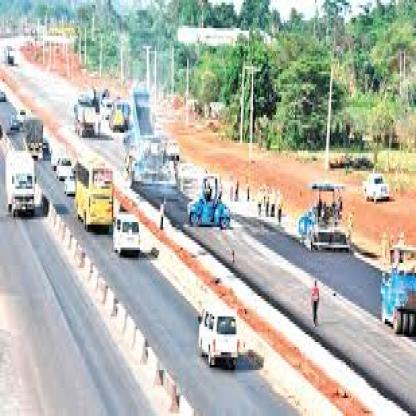car: (72, 156, 124, 246), (195, 307, 250, 378), (5, 139, 36, 221), (104, 210, 146, 260), (361, 149, 394, 209), (58, 153, 74, 181), (9, 115, 21, 140)
